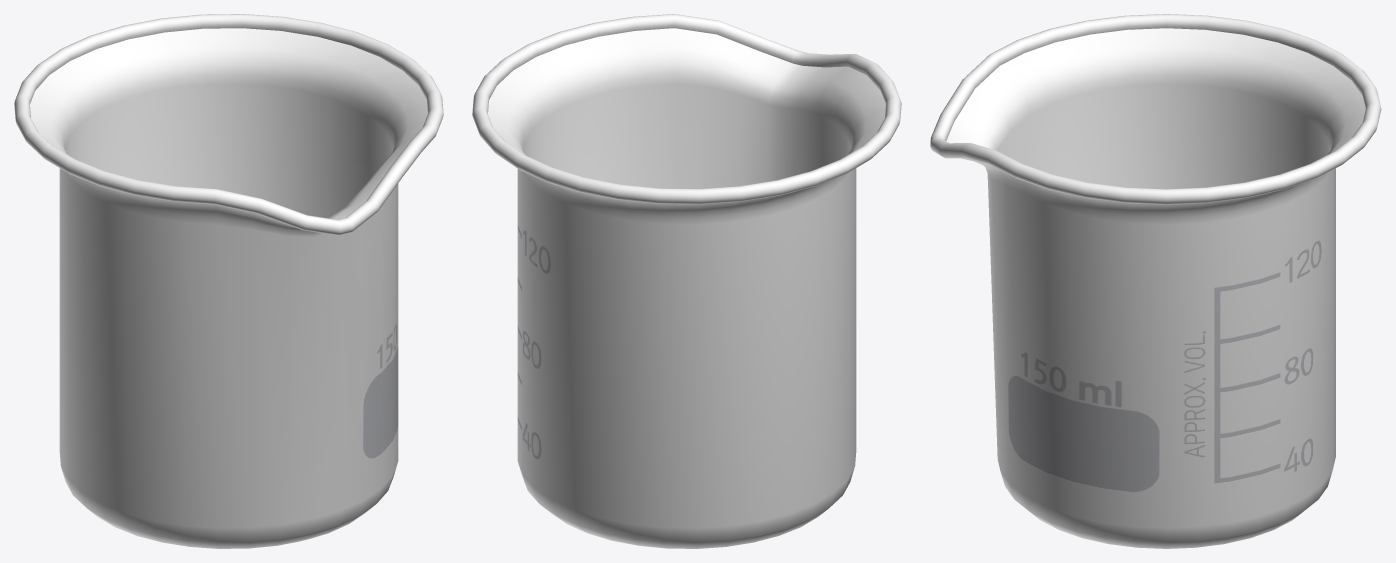
Rendered from Beaker_150ml.fbx.
The picture shows the model from 3 angles, left to right: view 1: azimuth 30°, elevation 25°; view 2: azimuth 150°, elevation 25°; view 3: azimuth 270°, elevation 25°; orthographic projection.
Parts seen in each view (by area): view 1: beaker; view 2: beaker; view 3: beaker.
Part boxes in pixels (x1=…): beaker: x1=14, y1=14, x2=443, y2=548; beaker: x1=472, y1=14, x2=901, y2=548; beaker: x1=930, y1=14, x2=1381, y2=548.
Size of the model in its own units: 8.24 by 8.19 by 8.65.
